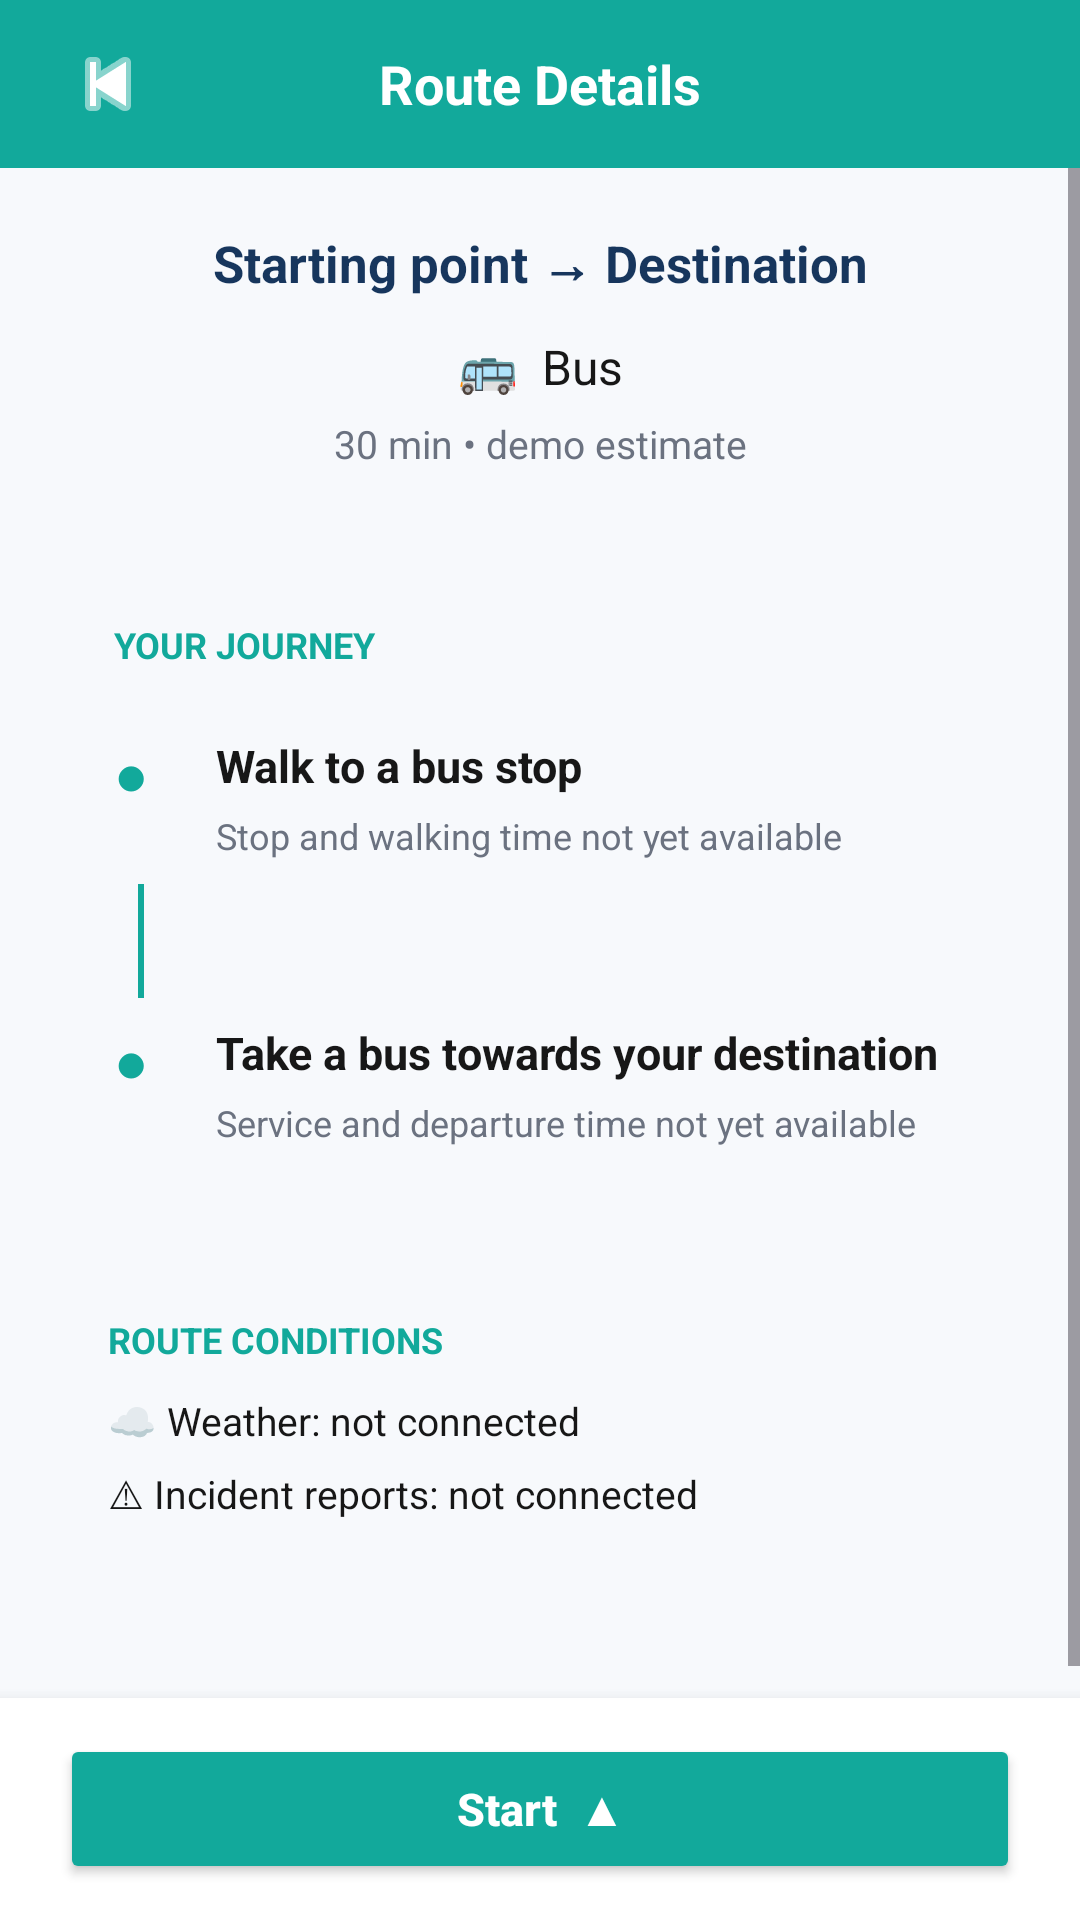

Locate icon controls on the screen. Image size 1080px×1920px, boxes as box=[x1, y1, x2, y2].
Back to Route Comparison: box=[85, 57, 131, 111]
